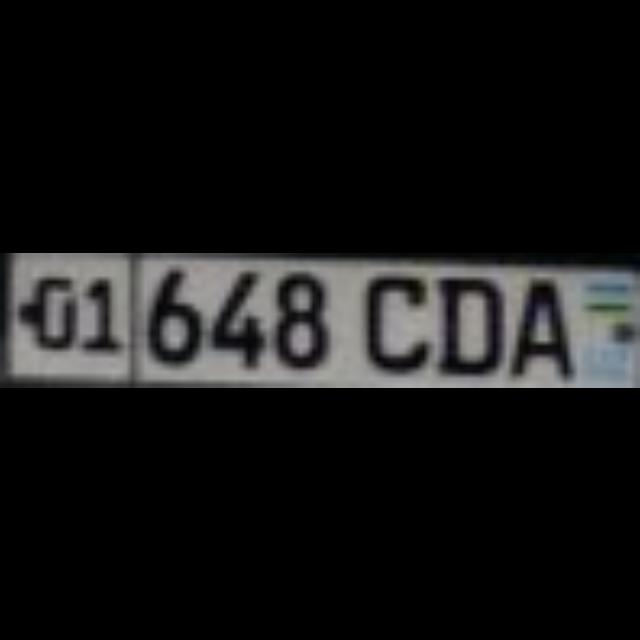0: (26, 265, 70, 343)
1: (72, 272, 116, 342)
4: (200, 258, 258, 362)
6: (142, 258, 194, 356)
8: (265, 264, 323, 362)
A: (504, 272, 570, 374)
C: (356, 264, 426, 362)
D: (432, 266, 498, 368)
